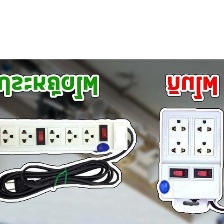three_eye_plug: (153, 106, 224, 203), (0, 118, 130, 154)
